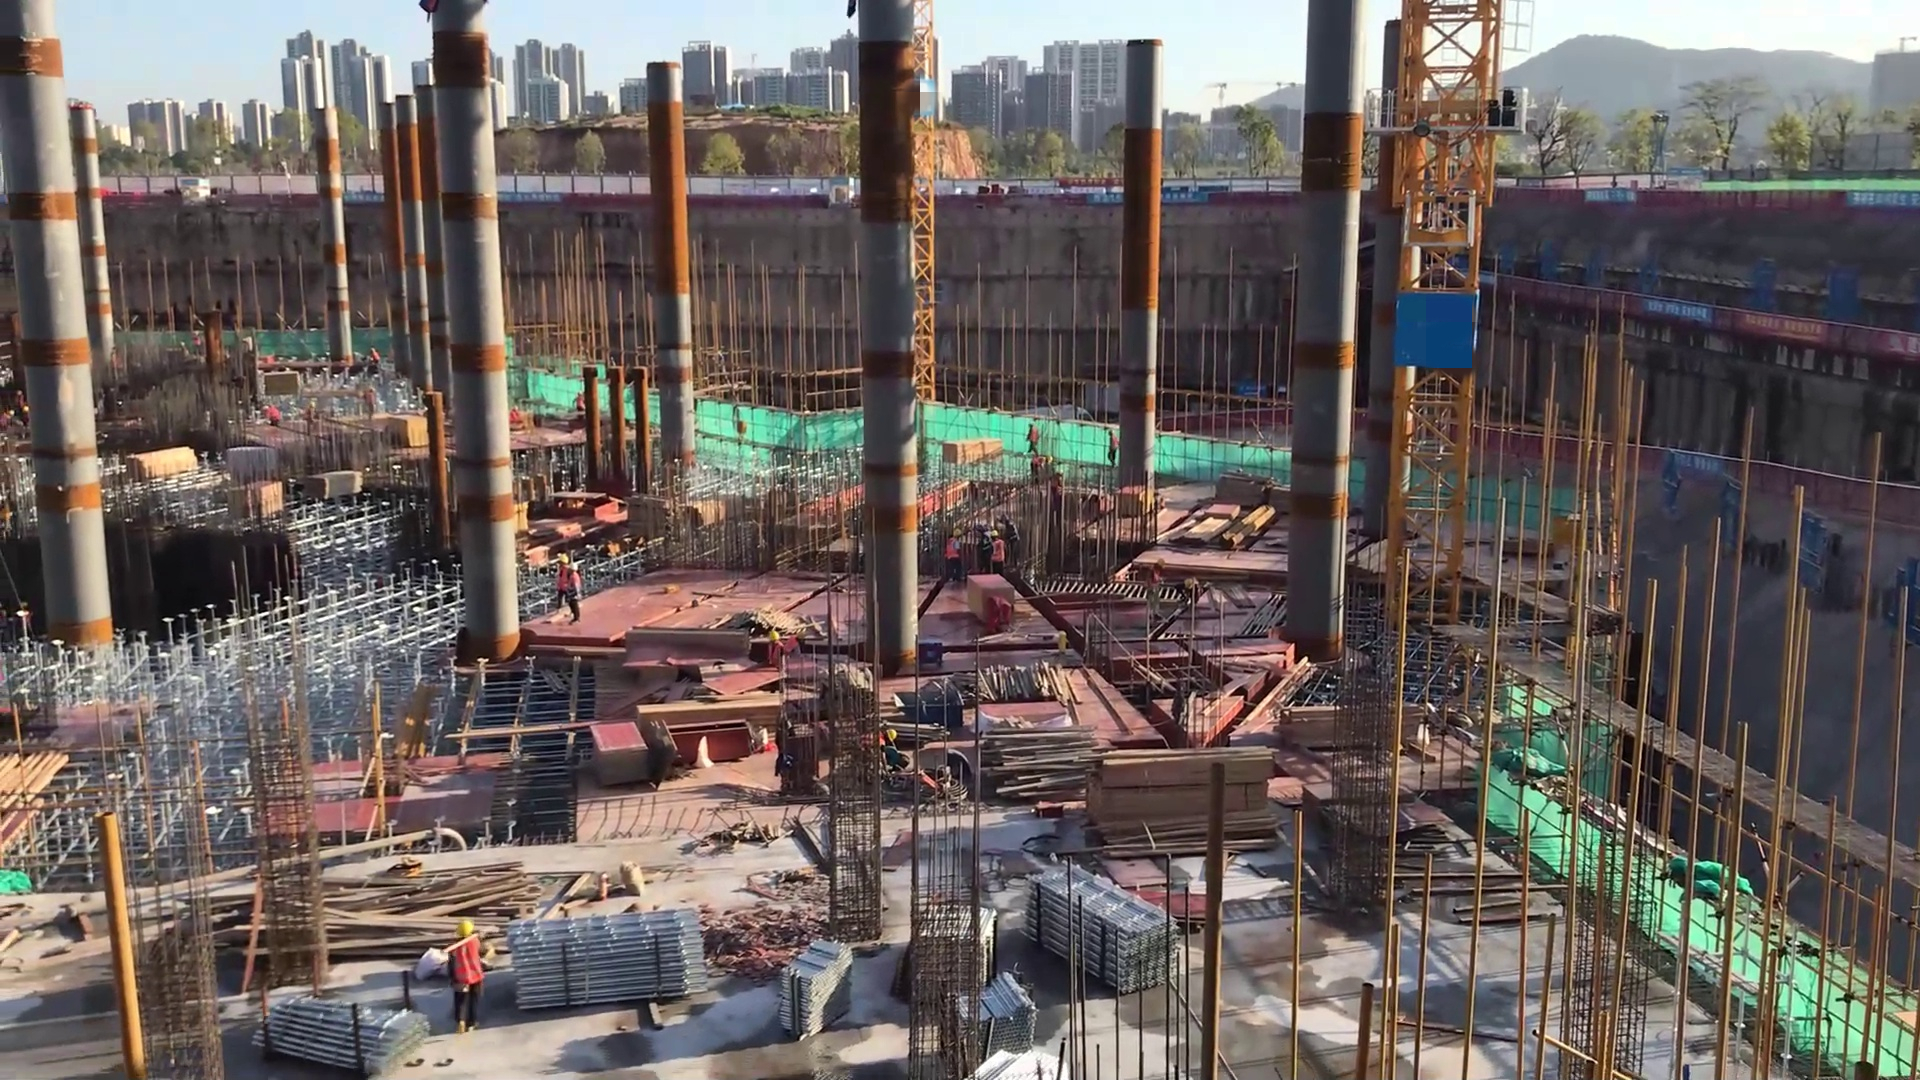board: (1120, 881, 1226, 938), (587, 715, 649, 787), (388, 411, 433, 450)
helmet: (454, 920, 476, 944), (885, 725, 897, 746), (1182, 578, 1197, 592), (768, 630, 780, 646), (949, 528, 965, 541), (1011, 599, 1019, 618), (569, 563, 580, 573), (559, 553, 569, 566), (795, 631, 808, 641), (992, 528, 1001, 539)
hook: (898, 688, 970, 728)
person: (436, 921, 511, 1030), (855, 719, 901, 779), (759, 630, 810, 670), (1146, 554, 1171, 620), (988, 591, 1020, 637), (767, 623, 787, 688), (567, 561, 586, 629), (945, 526, 966, 583), (989, 525, 1009, 583), (554, 552, 571, 612), (1104, 426, 1124, 476), (300, 394, 318, 442), (258, 402, 283, 434), (1177, 575, 1203, 606), (1029, 452, 1053, 482), (980, 530, 995, 576), (362, 384, 380, 423), (571, 387, 590, 422), (368, 343, 384, 377), (1024, 418, 1041, 451), (21, 403, 37, 433), (508, 406, 525, 432), (1, 407, 17, 432)
scaffold: (506, 906, 718, 1019), (1006, 863, 1173, 995), (252, 991, 426, 1070), (773, 938, 880, 1051), (951, 977, 1038, 1067)
slogan: (1741, 312, 1833, 345), (1092, 191, 1209, 208), (1645, 299, 1714, 327), (1845, 192, 1917, 214), (493, 188, 562, 208), (1586, 187, 1644, 206), (338, 189, 389, 207)
vest: (450, 936, 490, 995), (768, 642, 787, 670), (568, 572, 582, 605), (992, 538, 1007, 564), (947, 537, 962, 562)
wood: (1086, 735, 1279, 866), (323, 856, 537, 965), (976, 715, 1101, 815), (628, 698, 791, 750), (1279, 700, 1428, 752), (121, 444, 203, 484), (303, 461, 373, 503), (939, 432, 1005, 466)
